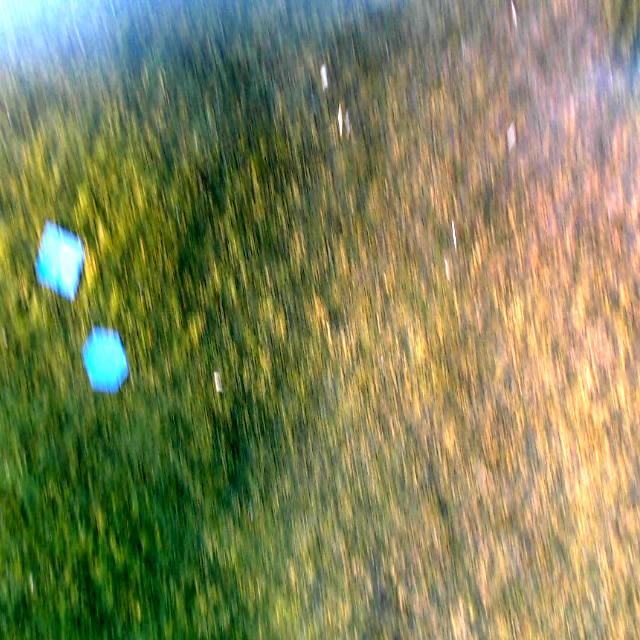blue_hexagon: (83, 330, 129, 392)
blue_square: (36, 223, 86, 303)
